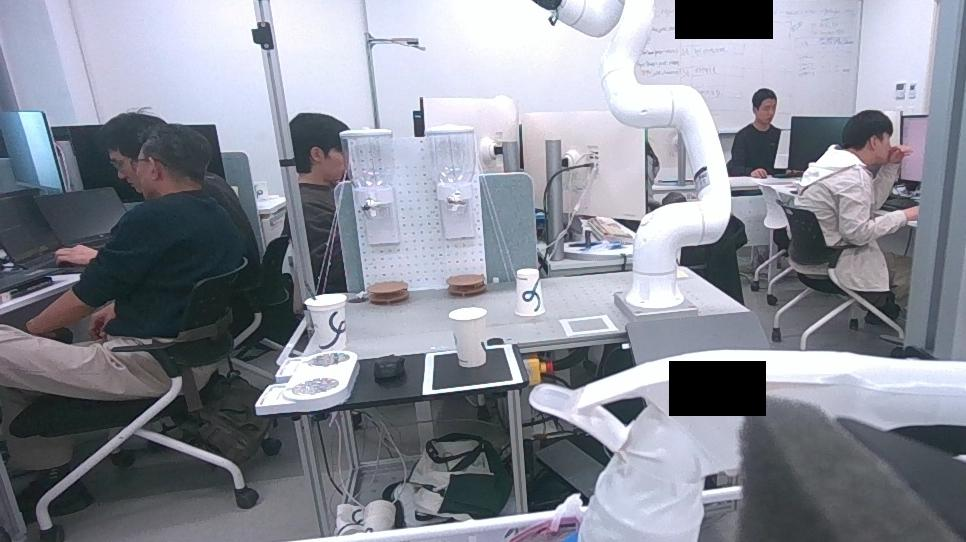Nozzle: (519, 343, 966, 542)
